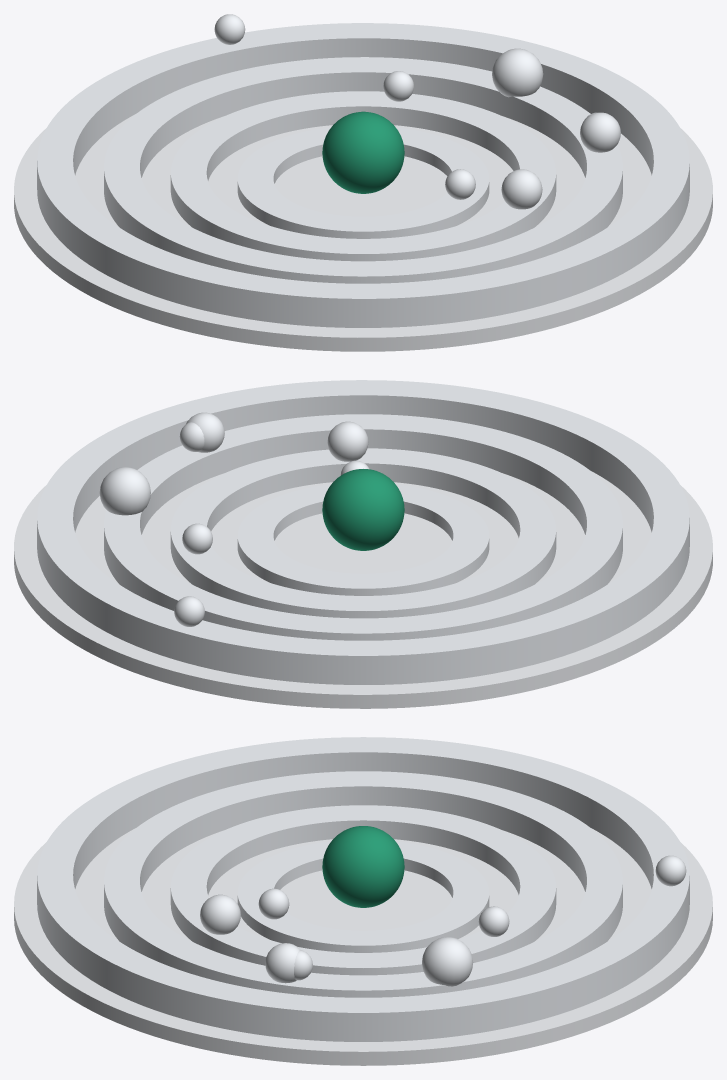
File: prop-rings.glb
3 renders of one model, top to bottom at view 1: azimuth 30°, elevation 25°; view 2: azimuth 150°, elevation 25°; view 3: azimuth 270°, elevation 25°, orthographic.
Parts seen in each view (by area): view 1: RE_Prop_Rings; view 2: RE_Prop_Rings; view 3: RE_Prop_Rings.
Boxes of the visible parts, left/top/right/bottom form: RE_Prop_Rings: left=14, top=14, right=712, bottom=351; RE_Prop_Rings: left=14, top=380, right=712, bottom=708; RE_Prop_Rings: left=14, top=737, right=712, bottom=1065.
Bounding box in the file's own units: 2.72 × 0.38 × 2.72.
